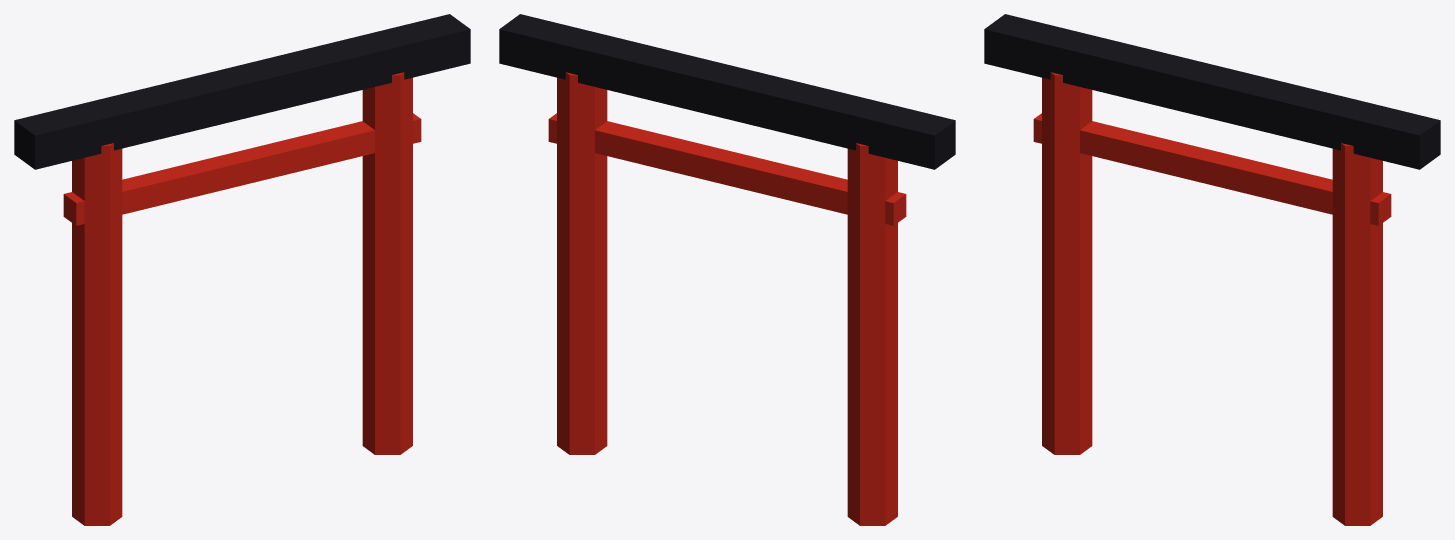
Rendered from torii_small.glb.
The picture shows the model from 3 angles, left to right: view 1: azimuth 30°, elevation 25°; view 2: azimuth 150°, elevation 25°; view 3: azimuth 330°, elevation 25°; orthographic projection.
Parts seen in each view (by area): view 1: torii_small; view 2: torii_small; view 3: torii_small.
Part boxes in pixels (<box>): torii_small: <box>14,14,470,525</box>; torii_small: <box>499,14,955,525</box>; torii_small: <box>984,14,1440,525</box>.
Size of the model in its own units: 2.4 by 2.14 by 0.24.
